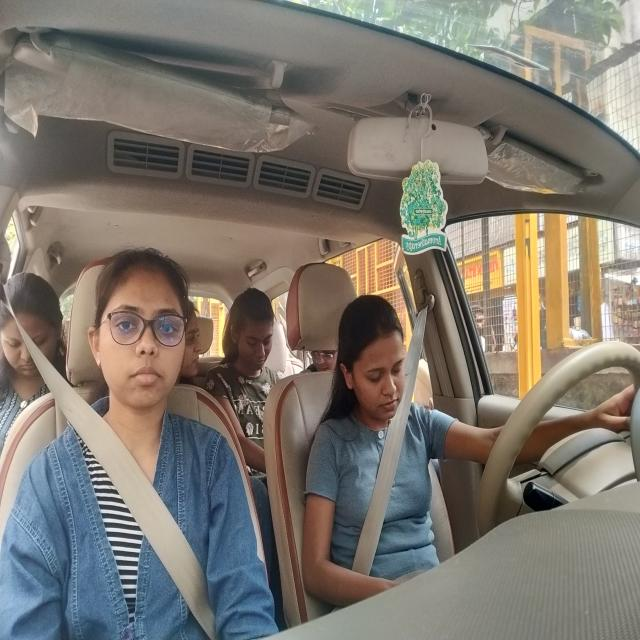drowsy: (336, 294, 410, 424)
person: (86, 245, 196, 418), (0, 263, 62, 389), (223, 286, 280, 377), (187, 302, 205, 388), (309, 347, 337, 374)
